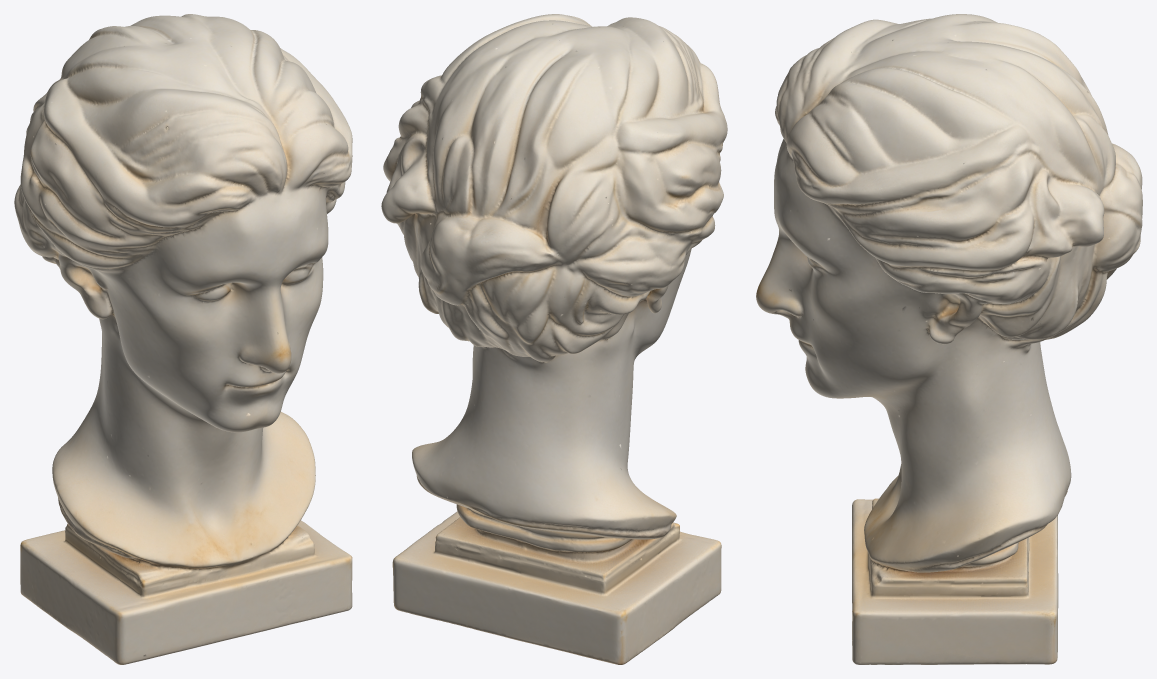
Rendered from Meshy_AI_Classical_marble_scul_0808115614_texture.glb.
3 views of the same model, side by side, from view 1: azimuth 30°, elevation 25°; view 2: azimuth 150°, elevation 25°; view 3: azimuth 270°, elevation 25° (orthographic).
Size of the model in its own units: 1.1 by 2 by 1.24.
Materials: 1 (1 with a texture image).
